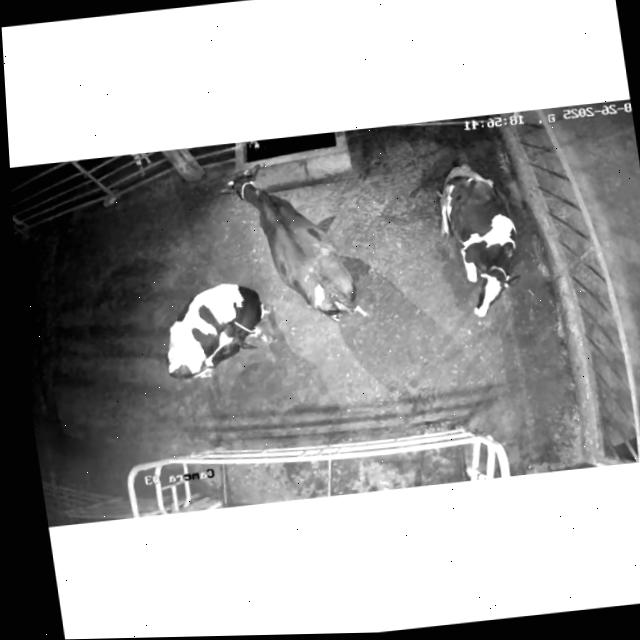stand: (220, 154, 380, 340), (149, 270, 279, 391)
